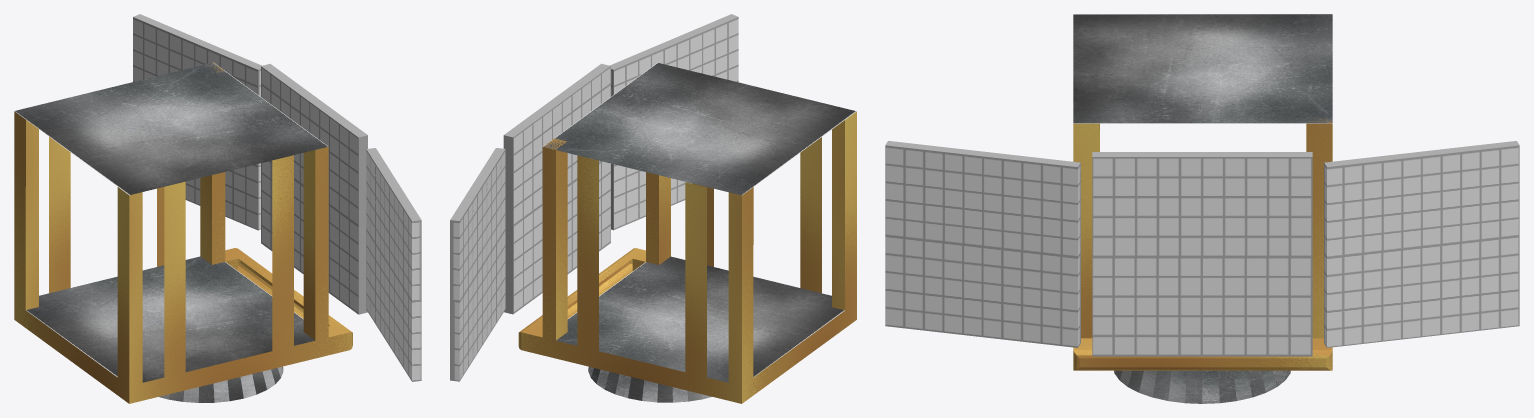
File: LEAFb.fbx
3 views of the same model, side by side, from view 1: azimuth 30°, elevation 25°; view 2: azimuth 150°, elevation 25°; view 3: azimuth 270°, elevation 25° (orthographic). The views are drawn at different scales.
Parts seen in each view (by area): view 1: Cube.003, Cube.005, Cylinder; view 2: Cube.003, Cube.005, Cylinder; view 3: Cube.005, Cube.003, Cylinder.
Boxes of the visible parts, x1,y1,x2,y2 form: Cube.003: [14, 62, 352, 403]; Cube.005: [133, 14, 421, 381]; Cylinder: [159, 366, 283, 402]; Cube.003: [518, 62, 856, 403]; Cube.005: [450, 14, 738, 381]; Cylinder: [588, 366, 712, 402]; Cube.005: [885, 141, 1519, 356]; Cube.003: [1073, 14, 1332, 370]; Cylinder: [1114, 370, 1290, 403].
Bounding box in the file's own units: 4.44 × 4.24 × 8.72.
3 materials, 3 textured.
